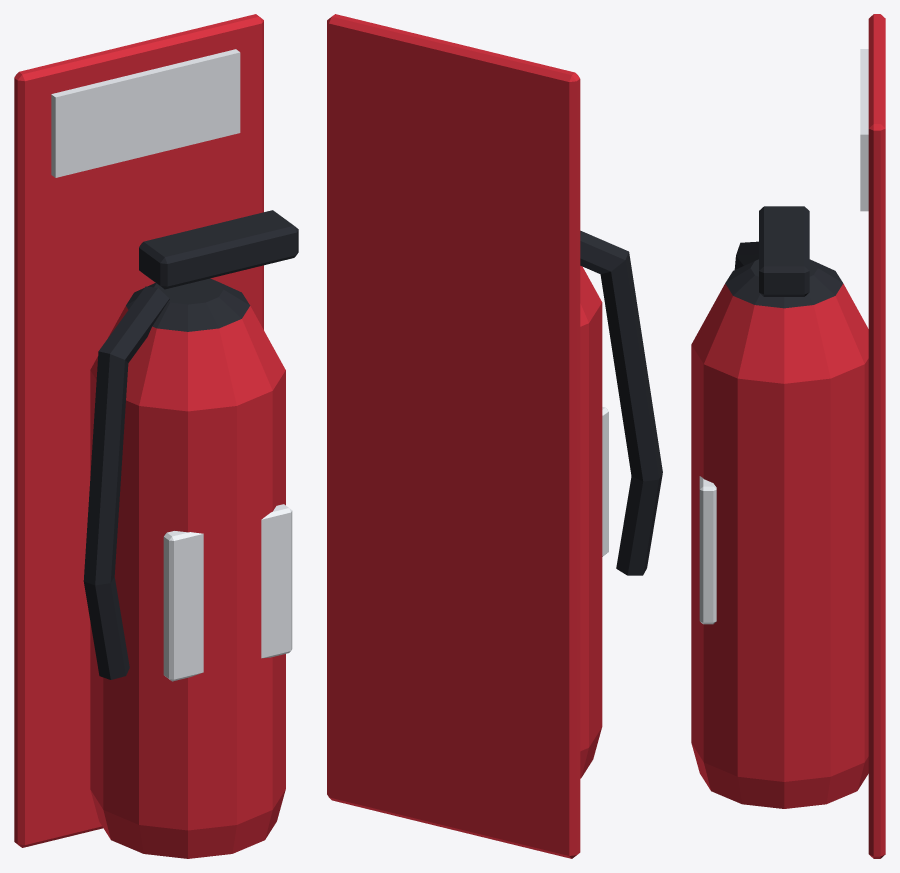
Rendered from FireExtinguisher.fbx.
The picture shows the model from 3 angles, left to right: view 1: azimuth 30°, elevation 25°; view 2: azimuth 150°, elevation 25°; view 3: azimuth 270°, elevation 25°; orthographic projection. The views are drawn at different scales.
Parts seen in each view (by area): view 1: FireExtinguisher; view 2: FireExtinguisher; view 3: FireExtinguisher.
Boxes of the visible parts, box(x1,y1,x2,y2) form: FireExtinguisher: box(14, 14, 298, 858); FireExtinguisher: box(327, 14, 662, 858); FireExtinguisher: box(691, 14, 885, 858).
Bounding box in the file's own units: 1.64 × 4.8 × 1.15.
Materials: 1 (1 with a texture image).
